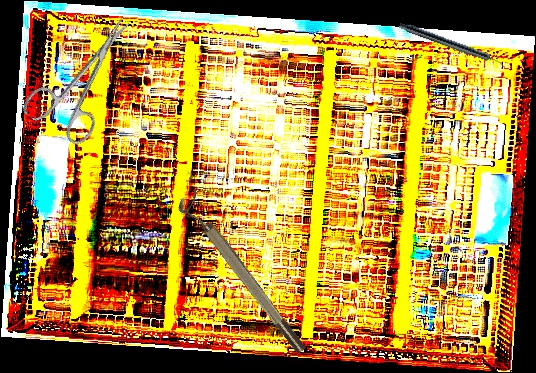Fixation Ring: (174, 189, 309, 361)
Handpiece: (397, 21, 508, 70)
Iris Scissors: (19, 0, 157, 153)
